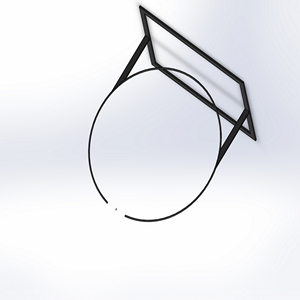circle: (83, 4, 259, 222)
